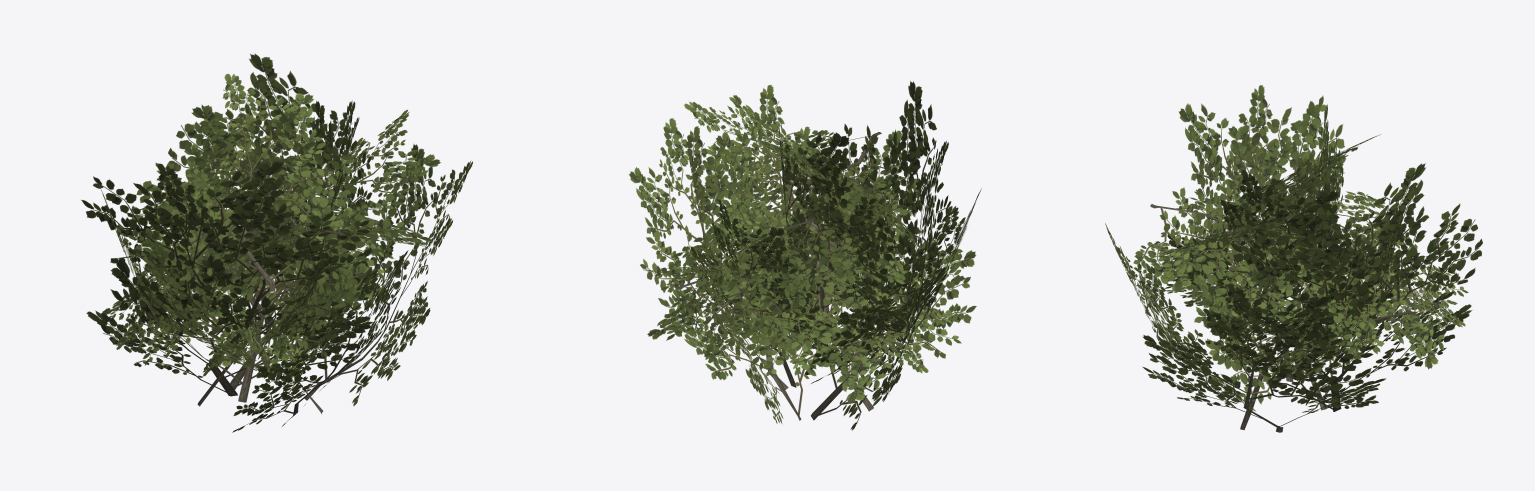
The model's file is bush1.glb.
3 views of the same model, side by side, from view 1: azimuth 30°, elevation 25°; view 2: azimuth 150°, elevation 25°; view 3: azimuth 270°, elevation 25° (orthographic). The views are drawn at different scales.
Parts seen in each view (by area): view 1: Bush-01; view 2: Bush-01; view 3: Bush-01.
Boxes of the visible parts, x1=… form: Bush-01: x1=81, y1=53, x2=472, y2=432; Bush-01: x1=629, y1=81, x2=981, y2=430; Bush-01: x1=1105, y1=85, x2=1482, y2=432.
Size of the model in its own units: 1.6 by 1.14 by 1.54.
2 materials, 2 textured.
